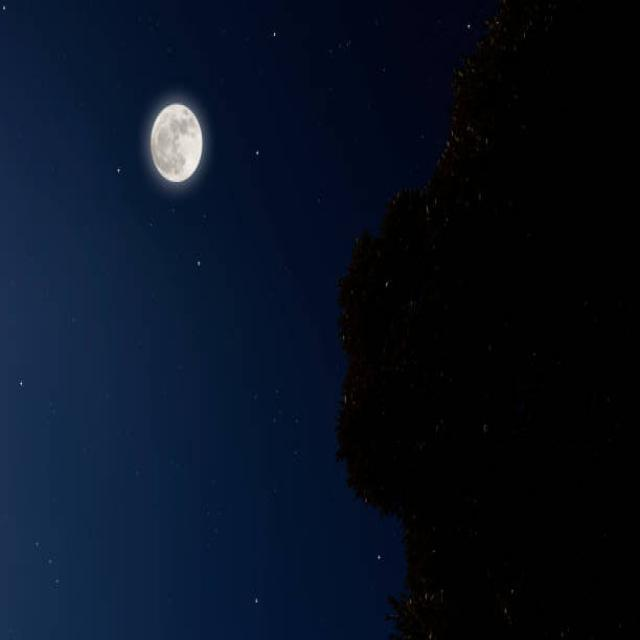moon: (151, 104, 201, 181)
